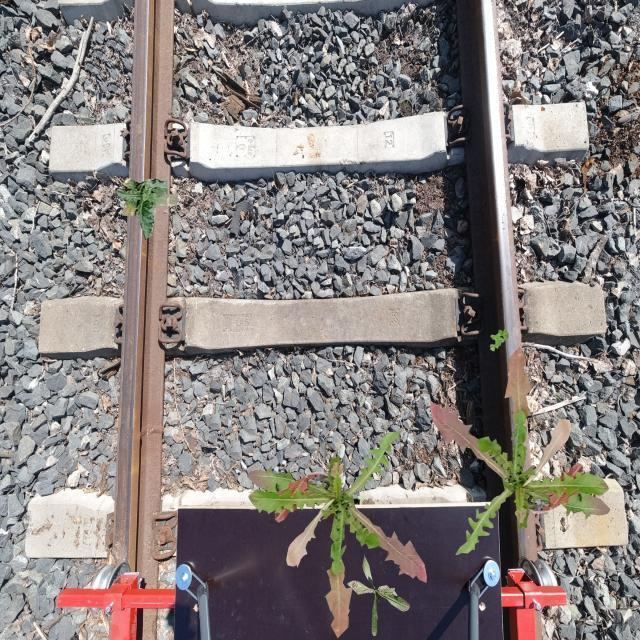Plant: (431, 347, 611, 556), (247, 430, 427, 638), (347, 553, 411, 637), (116, 179, 180, 241), (570, 473, 594, 504), (490, 327, 510, 352)
